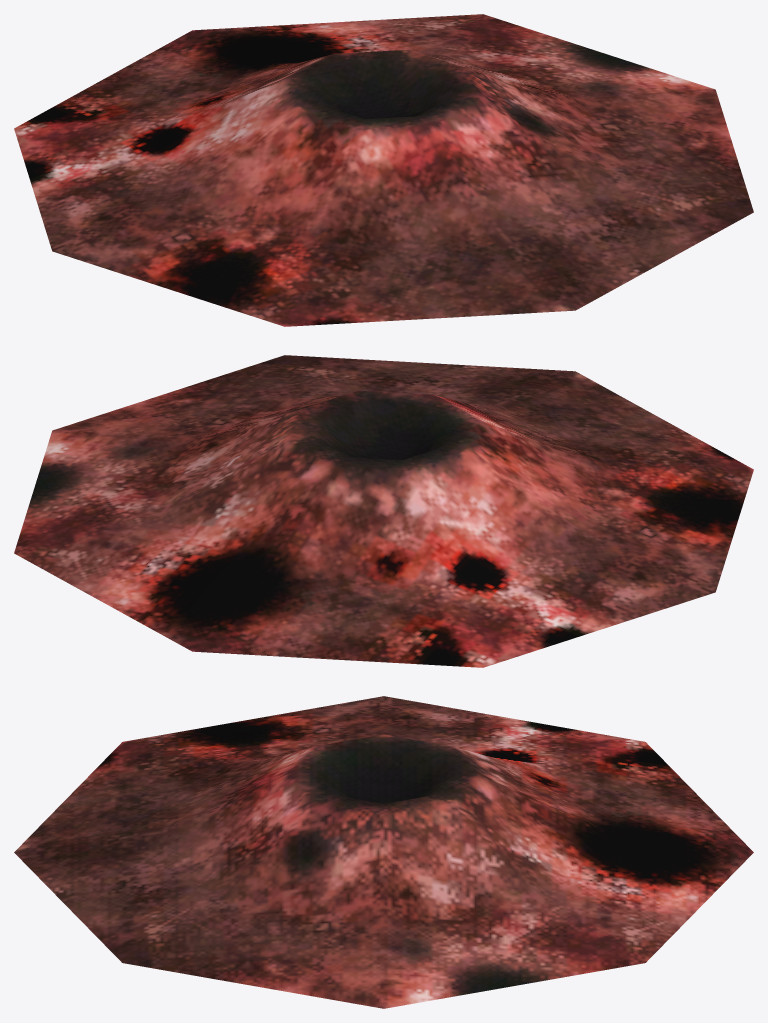
The model's file is FleshHill.glb.
3 views of the same model, one above another, from view 1: azimuth 30°, elevation 25°; view 2: azimuth 150°, elevation 25°; view 3: azimuth 270°, elevation 25° (orthographic). The views are drawn at different scales.
Parts seen in each view (by area): view 1: Circle; view 2: Circle; view 3: Circle.
Part boxes in pixels (x1=…): Circle: x1=14, y1=14, x2=753, y2=326; Circle: x1=14, y1=355, x2=753, y2=667; Circle: x1=14, y1=696, x2=753, y2=1008.
Size of the model in its own units: 2.71 by 0.3137 by 2.71.
Materials: 1 (1 with a texture image).
